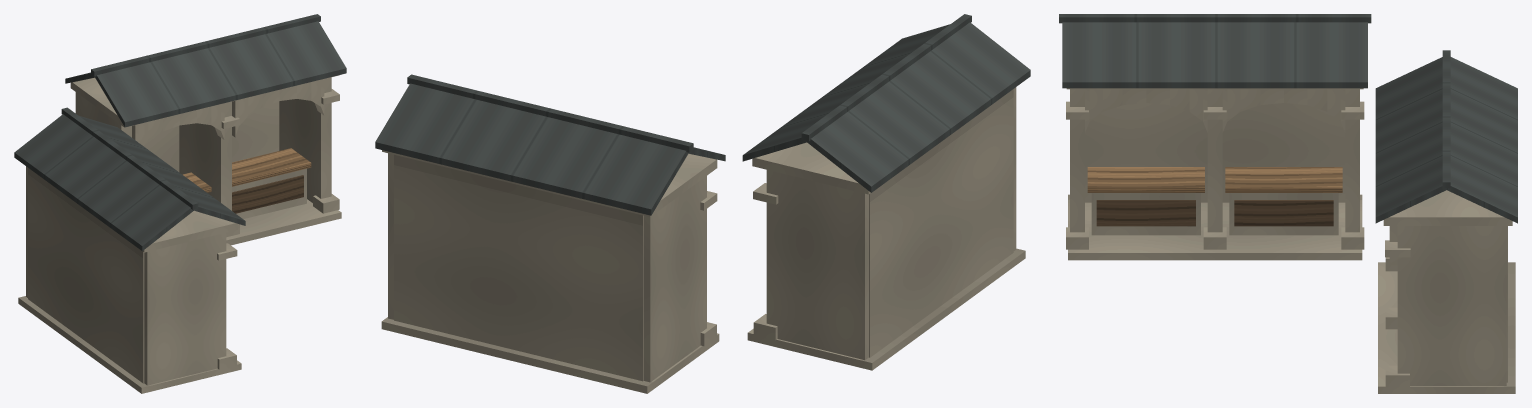
3 views of the same model, side by side, from view 1: azimuth 30°, elevation 25°; view 2: azimuth 150°, elevation 25°; view 3: azimuth 270°, elevation 25° (orthographic). The views are drawn at different scales.
Parts seen in each view (by area): view 1: cotonou; view 2: cotonou; view 3: cotonou.
Part boxes in pixels (x1=…): cotonou: x1=14, y1=14, x2=346, y2=393; cotonou: x1=375, y1=14, x2=1030, y2=393; cotonou: x1=1059, y1=14, x2=1517, y2=393.
Size of the model in its own units: 4.9 by 2.5 by 4.83.
Materials: 1 (1 with a texture image).
